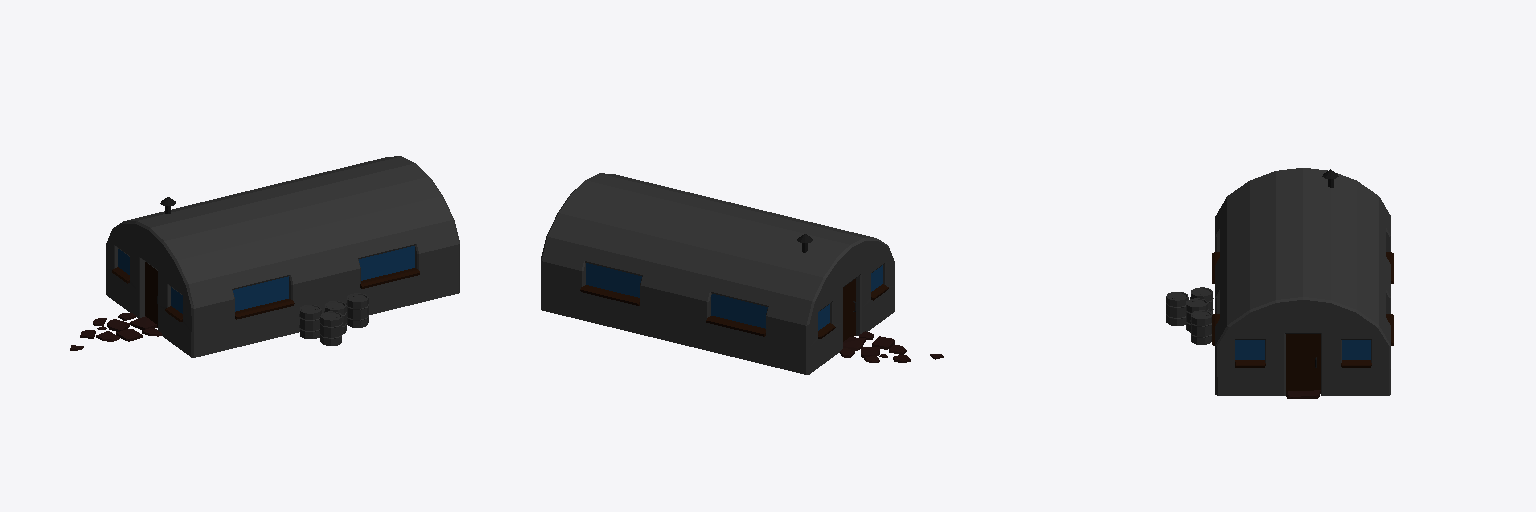
The picture shows the model from 3 angles: view 1: azimuth 30°, elevation 25°; view 2: azimuth 150°, elevation 25°; view 3: azimuth 270°, elevation 25°; orthographic projection.
Visible parts, largest first — view 1: Barracks_Mesh; view 2: Barracks_Mesh; view 3: Barracks_Mesh.
Part boxes in pixels (x1,y1,x2,y2): Barracks_Mesh: (70, 156, 459, 357); Barracks_Mesh: (541, 173, 943, 374); Barracks_Mesh: (1166, 168, 1393, 398).
Bounding box in the file's own units: 9.55 × 2.84 × 5.22.